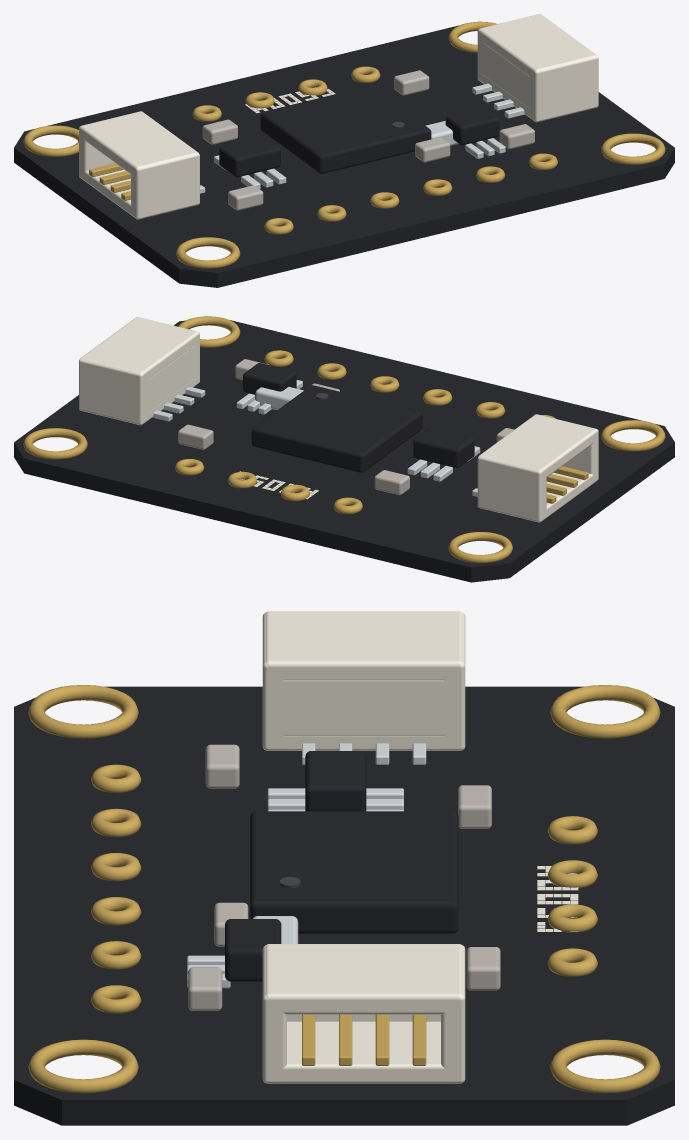
The model's file is sensors-16.glb.
The picture shows the model from 3 angles, top to bottom: view 1: azimuth 30°, elevation 25°; view 2: azimuth 150°, elevation 25°; view 3: azimuth 270°, elevation 25°; orthographic projection. The views are drawn at different scales.
Parts seen in each view (by area): view 1: pcb, right-socket, left-socket, chip, electronics, mounts, pads; view 2: pcb, right-socket, left-socket, chip, electronics, mounts, pads, clock; view 3: pcb, left-socket, right-socket, chip, electronics, mounts, pads.
Part boxes in pixels (x1,y1,x2,y2): pcb: (14,25,674,287); right-socket: (472,14,598,122); left-socket: (79,111,205,219); chip: (260,86,431,173); electronics: (202,70,534,210); mounts: (23,21,665,268); pads: (192,66,557,234); pcb: (14,320,674,582); right-socket: (79,317,205,425); left-socket: (472,414,598,522); chip: (251,385,422,472); electronics: (178,359,513,495); mounts: (23,316,665,563); pads: (175,350,555,514); clock: (255,387,303,410); pcb: (14,686,674,1125); left-socket: (262,611,465,764); right-socket: (262,944,465,1083); chip: (250,811,458,933); electronics: (187,744,500,1010); mounts: (28,685,660,1093); pads: (91,764,597,1013).
Size of the model in its own units: 2.25 by 0.2955 by 1.52.
